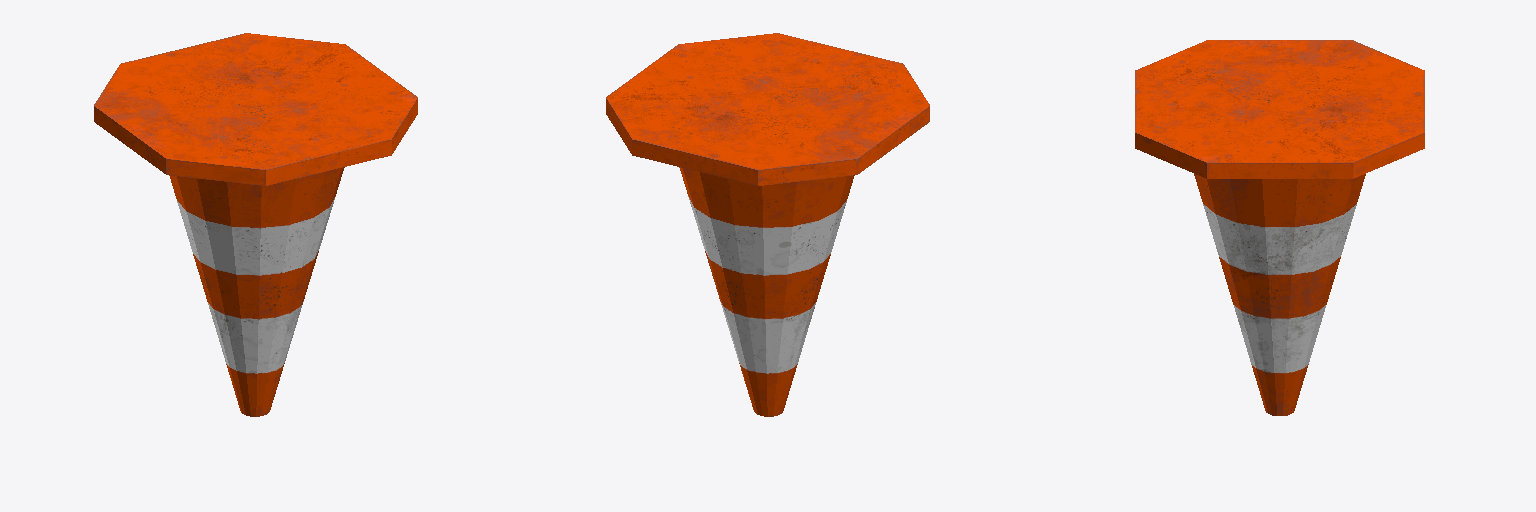
The picture shows the model from 3 angles: view 1: azimuth 30°, elevation 25°; view 2: azimuth 150°, elevation 25°; view 3: azimuth 270°, elevation 25°; orthographic projection.
Visible parts, largest first — view 1: Cone:pCylinder2_Mesh.001; view 2: Cone:pCylinder2_Mesh.001; view 3: Cone:pCylinder2_Mesh.001.
Boxes of the visible parts, box(x1,y1,x2,y2) form: Cone:pCylinder2_Mesh.001: box(94, 33, 417, 416); Cone:pCylinder2_Mesh.001: box(606, 33, 929, 416); Cone:pCylinder2_Mesh.001: box(1135, 40, 1424, 415).
Bounding box in the file's own units: 0.4798 × 0.562 × 0.4798.
1 materials, 1 textured.